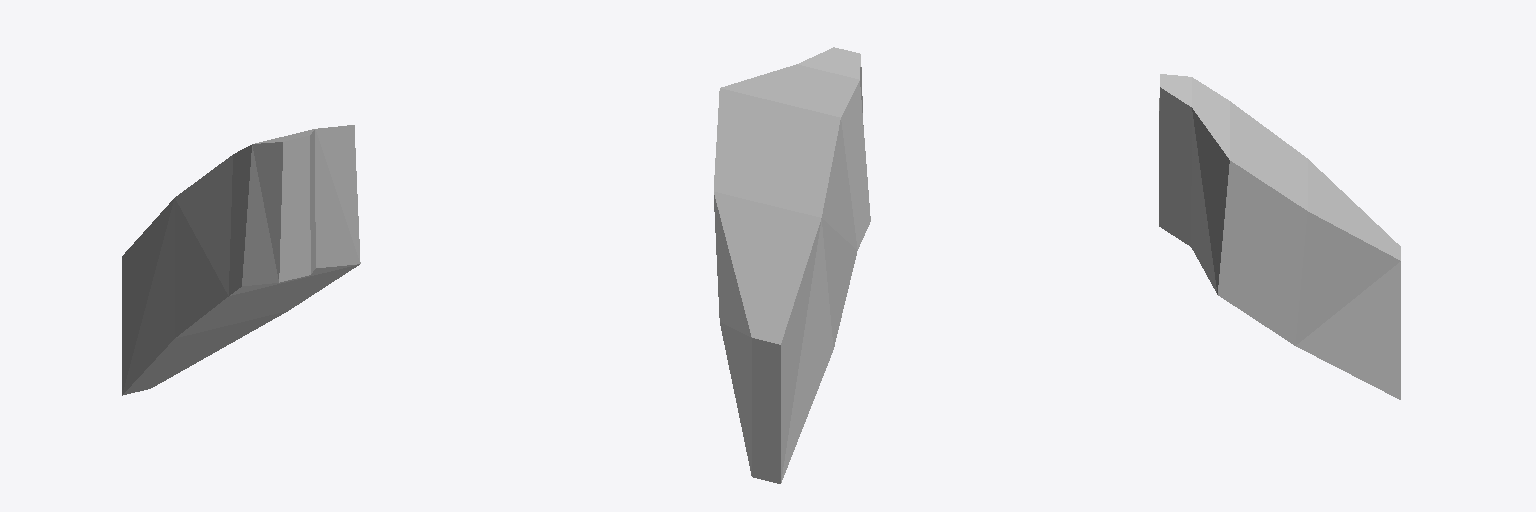
The picture shows the model from 3 angles: view 1: azimuth 30°, elevation 25°; view 2: azimuth 150°, elevation 25°; view 3: azimuth 270°, elevation 25°; orthographic projection.
Visible parts, largest first — view 1: World1Patch5; view 2: World1Patch5; view 3: World1Patch5.
Boxes of the visible parts, box(x1,y1,x2,y2) form: World1Patch5: box(122, 125, 360, 395); World1Patch5: box(714, 47, 870, 483); World1Patch5: box(1159, 74, 1400, 399).
Bounding box in the file's own units: 9.74 × 21.07 × 13.91.